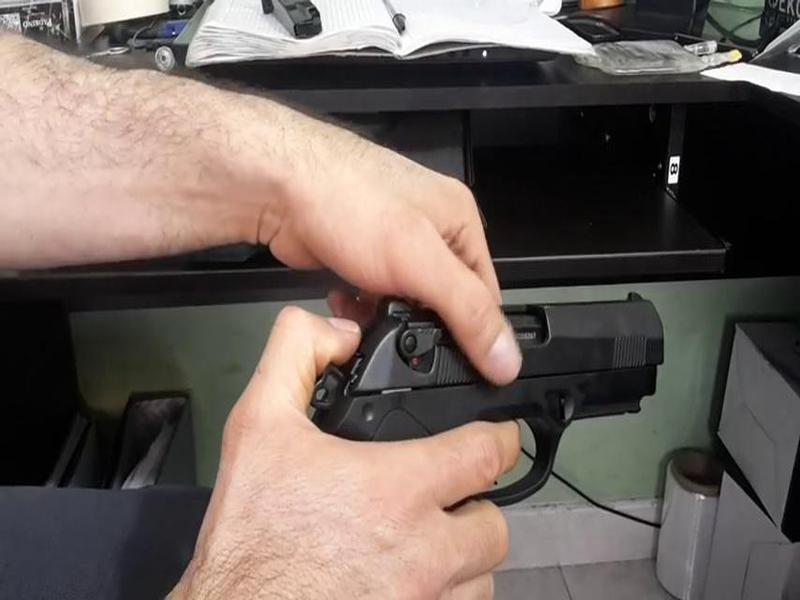Pistola: (229, 284, 702, 514)
